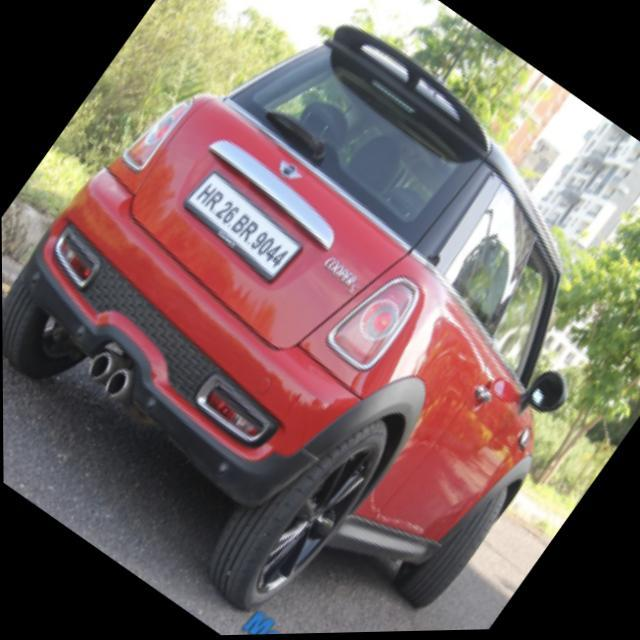license_plate: (171, 163, 311, 294)
